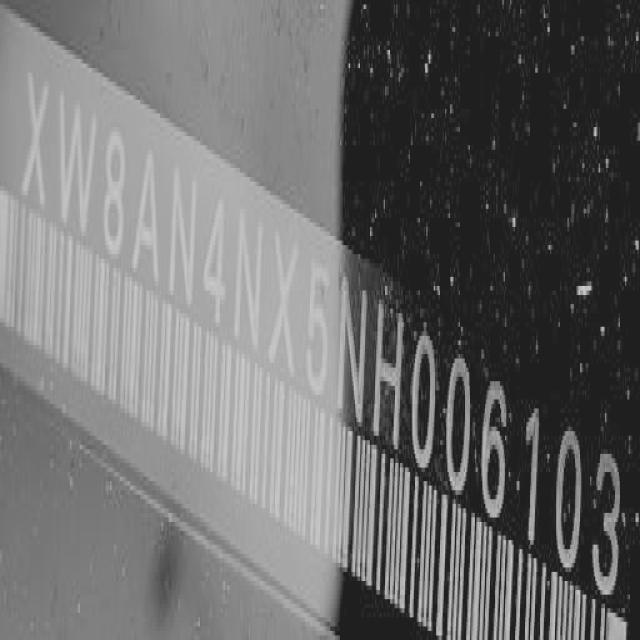0: (445, 338, 474, 514), (410, 324, 438, 478), (558, 421, 583, 582)
1: (524, 402, 541, 549)
3: (592, 434, 624, 606)
4: (202, 190, 228, 330)
5: (303, 246, 329, 407)
6: (478, 366, 508, 524)
8: (102, 123, 126, 267)
A: (136, 137, 160, 289)
H: (374, 302, 406, 454)
N: (166, 141, 198, 313), (336, 262, 366, 428), (232, 200, 262, 364)
W: (56, 75, 96, 246)
X: (266, 233, 299, 375), (22, 62, 50, 226)
